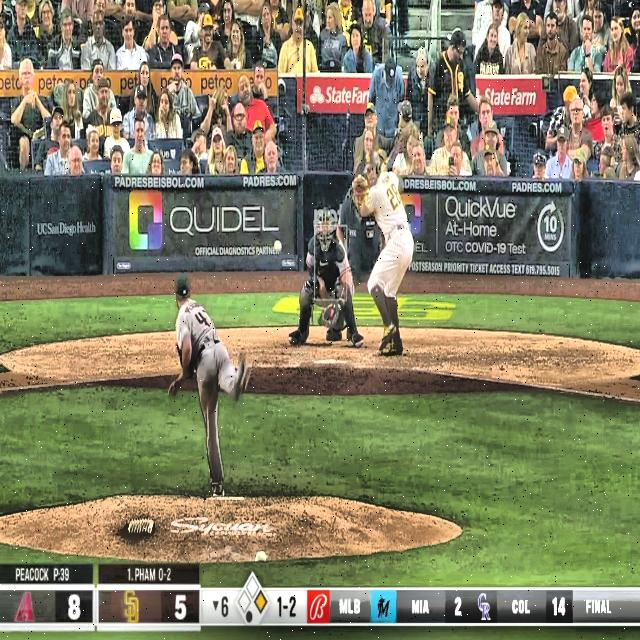baseball: (274, 240, 282, 252)
